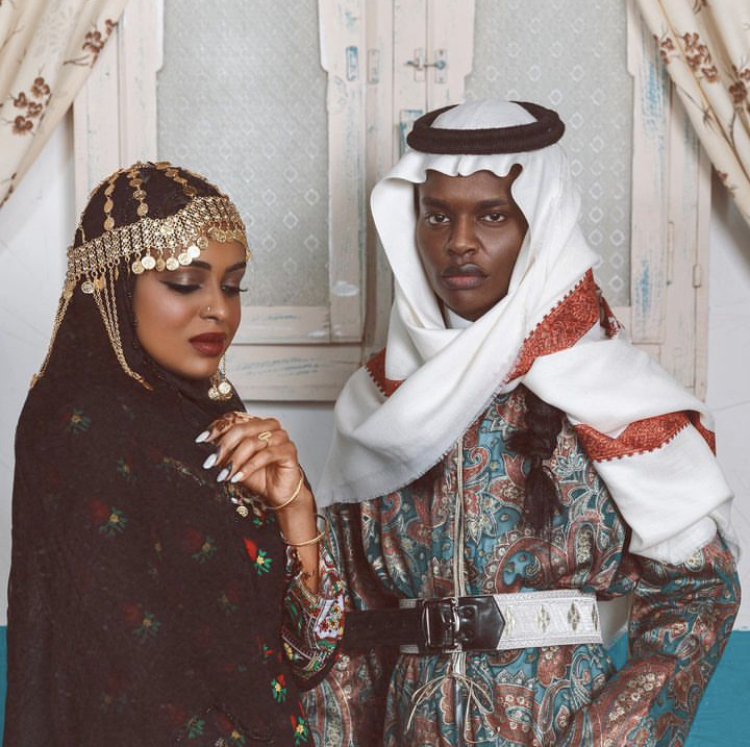Saudi_Founding_Day: (314, 95, 742, 747), (2, 155, 354, 745)
